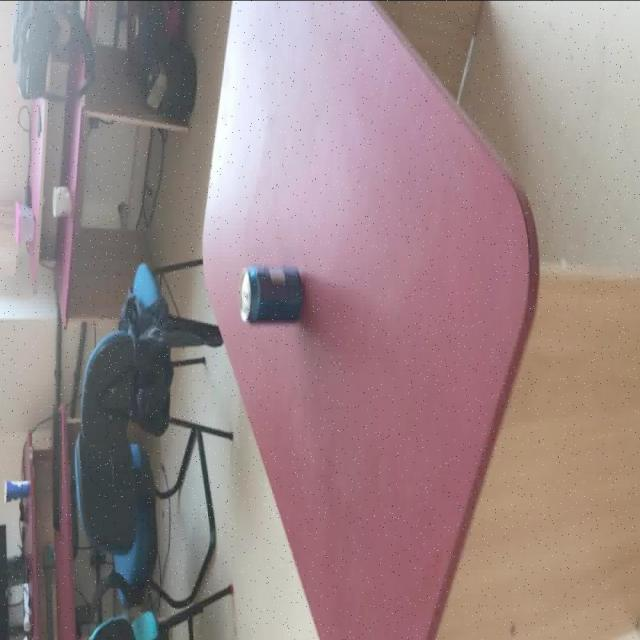Tonic: (238, 264, 302, 327), (3, 480, 30, 504)
